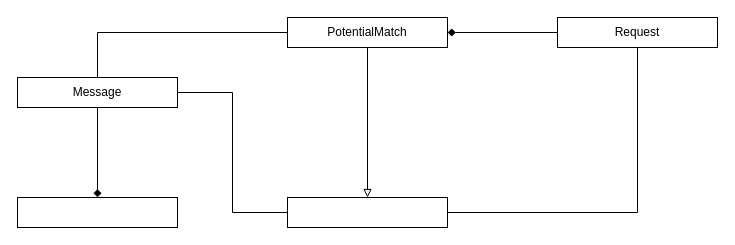
Some shapes in this 735 by 245 pixel diagram are drawn without their labels. Here are the shapes that lost their labels. From the top down, the centre of each, then its label:
At [97,212]: "Chat".
At [367,212]: "User".
